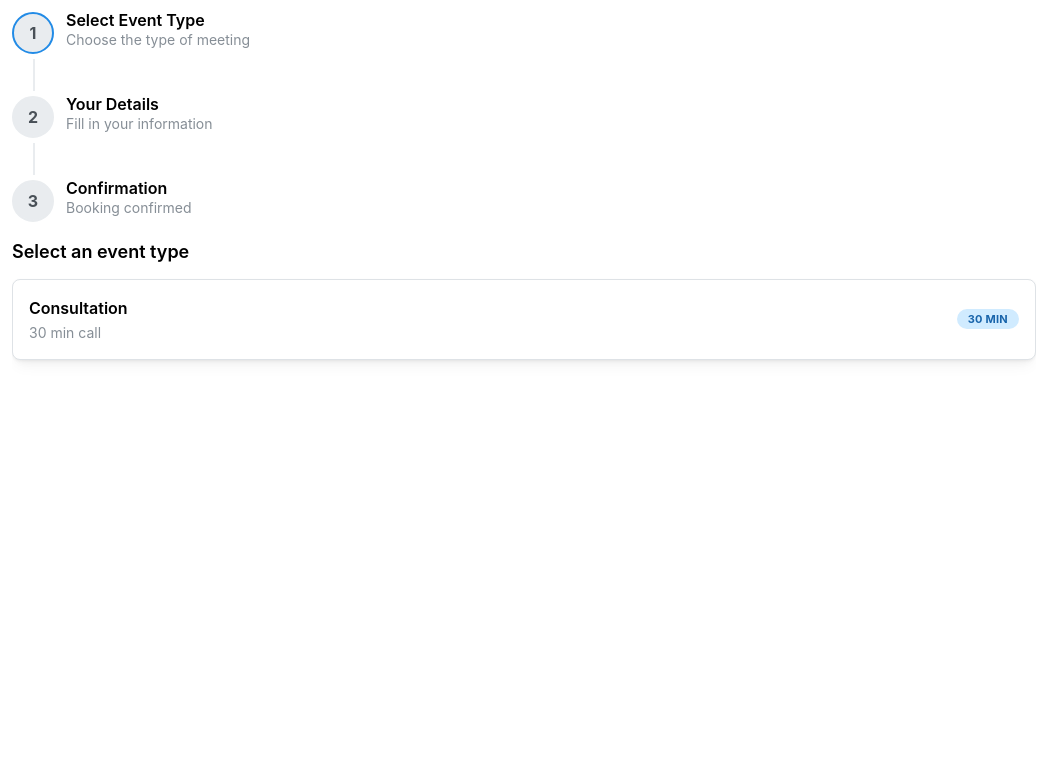
Scenario: BookingStepper › shows step 3 (confirmation) after booking is created
The image size is (1048, 780).
Click the text "Consultation" at {"x": 78, "y": 308}, box [29, 296, 128, 321]
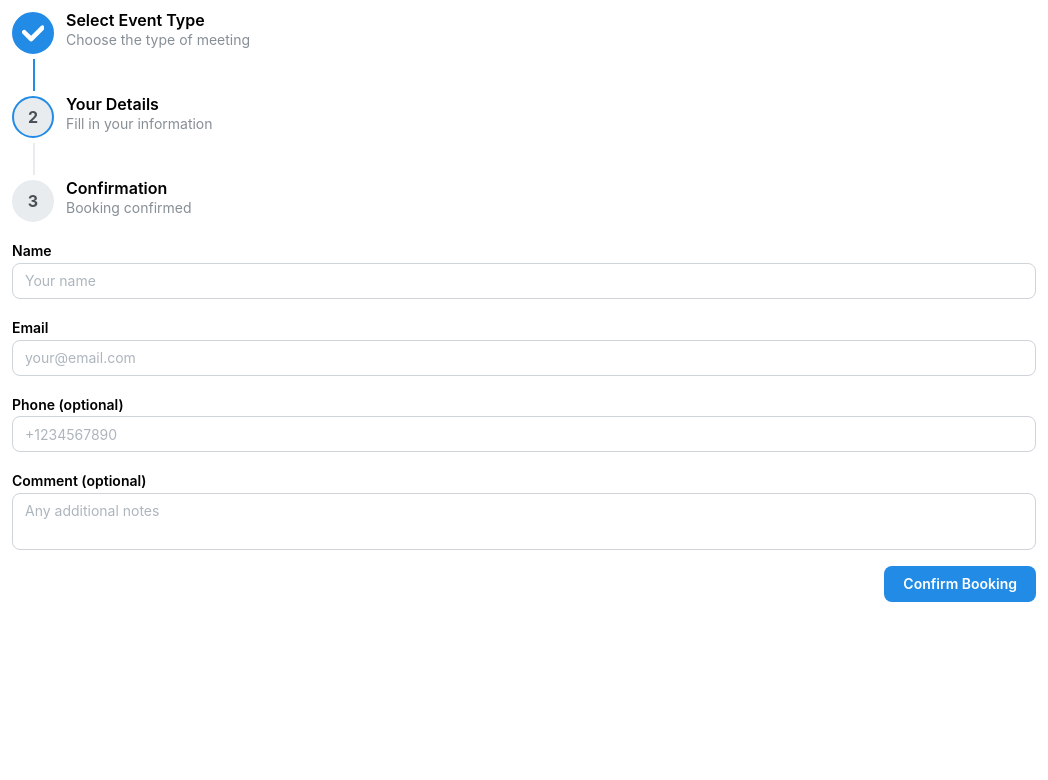
Type "John Doe" into the field labelled "Name" at {"x": 524, "y": 281}, box [12, 263, 1036, 299]
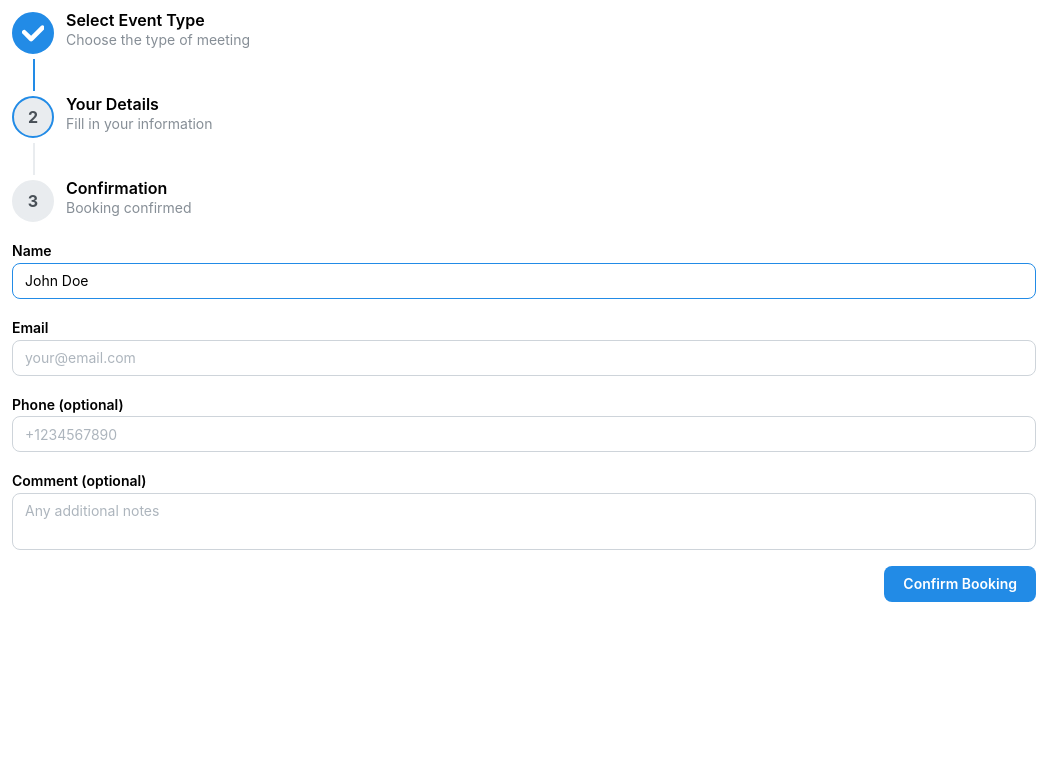
Type "john@example.com" into the field labelled "Email" at {"x": 524, "y": 358}, box [12, 340, 1036, 376]
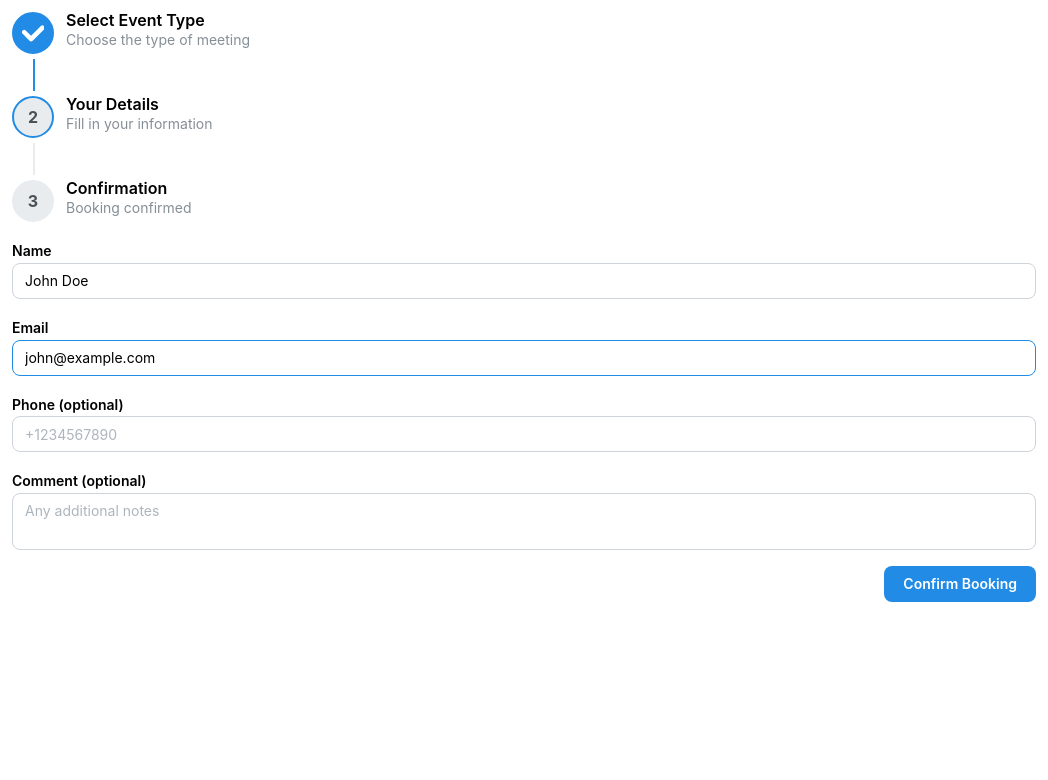
Click the button "Confirm Booking" at {"x": 960, "y": 584}, box [884, 566, 1036, 602]
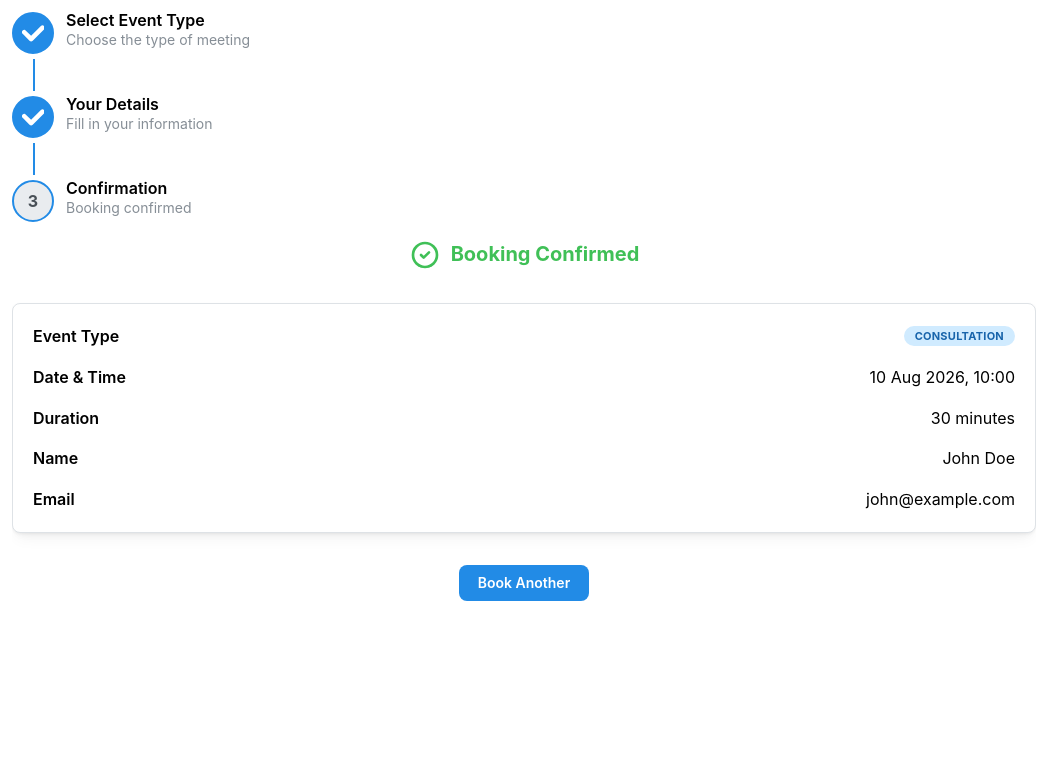
Result: the text "Booking Confirmed" is shown at [451, 238, 639, 271]
